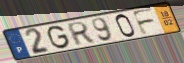0: (115, 13, 137, 39)
2: (24, 27, 52, 57)
9: (92, 17, 115, 42)
F: (131, 7, 157, 37)
G: (46, 24, 72, 50)
R: (67, 20, 96, 47)
